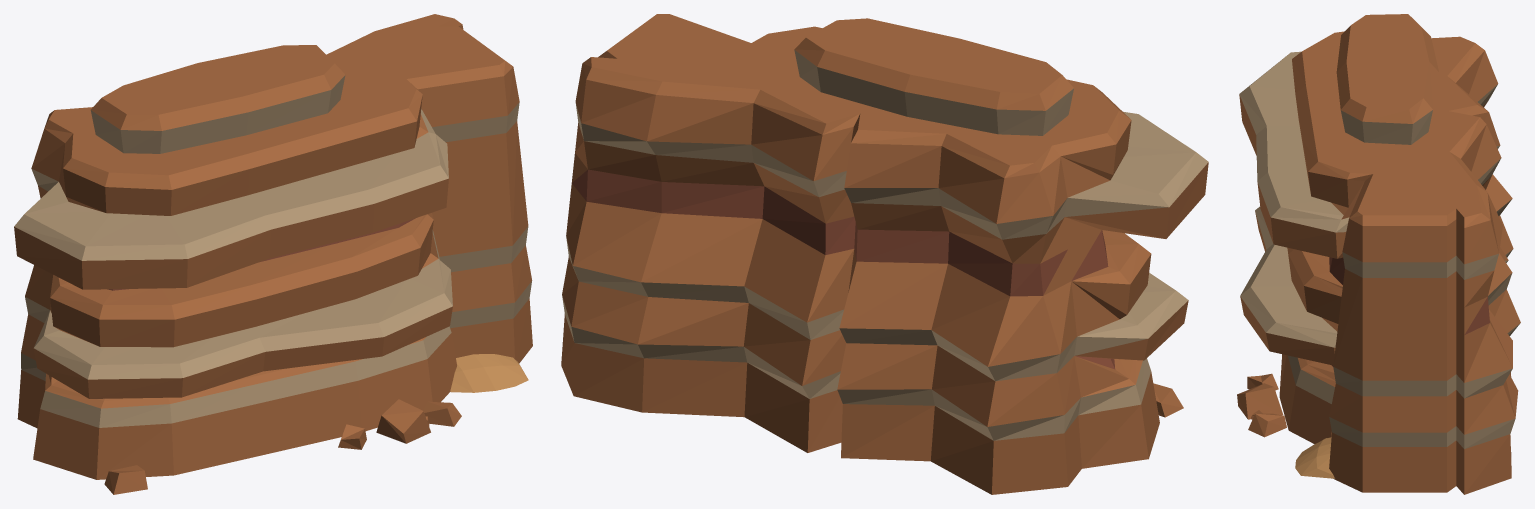
Rendered from sandstone-outcrop-75800b.glb.
3 views of the same model, side by side, from view 1: azimuth 30°, elevation 25°; view 2: azimuth 150°, elevation 25°; view 3: azimuth 270°, elevation 25° (orthographic). The views are drawn at different scales.
Visible parts, largest first — view 1: outcrop; view 2: outcrop; view 3: outcrop.
Part boxes in pixels (box(x1,y1,x2,y2)): outcrop: box(14, 14, 532, 494); outcrop: box(561, 14, 1208, 494); outcrop: box(1237, 14, 1520, 494).
Size of the model in its own units: 4.1 by 2.5 by 2.15.
